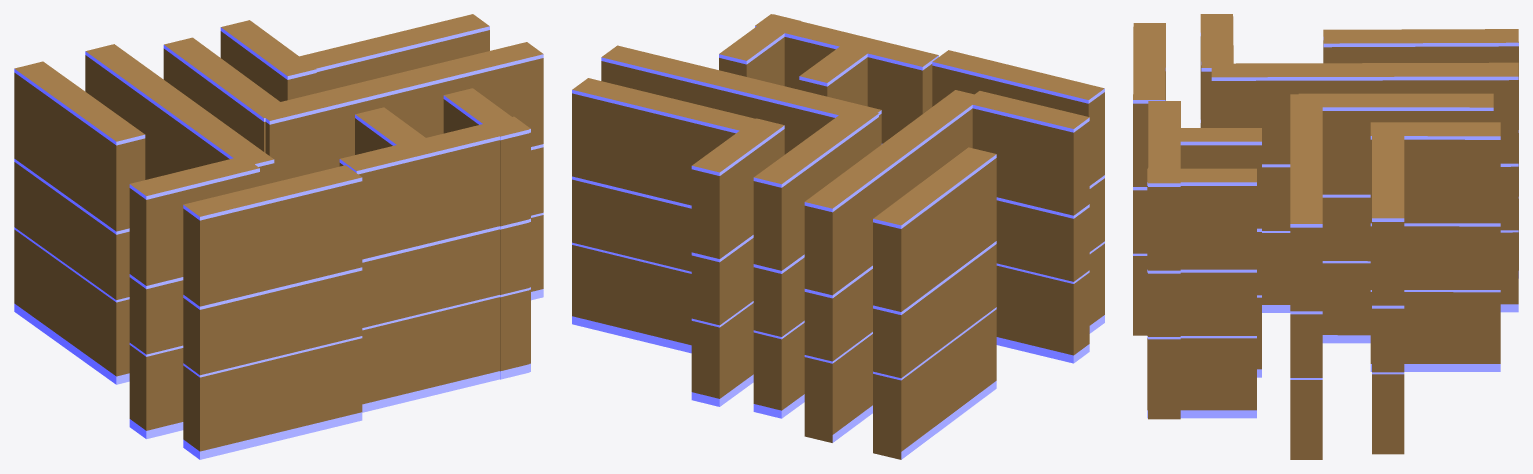
The model's file is map2.glb.
The picture shows the model from 3 angles, left to right: view 1: azimuth 30°, elevation 25°; view 2: azimuth 150°, elevation 25°; view 3: azimuth 270°, elevation 25°; orthographic projection. The views are drawn at different scales.
Parts seen in each view (by area): view 1: wall_1.009, wall_1.008, wall_1.006, wall_1_, wall_1.004, wall_1.007, wall_1.005, wall_1.001, wall_1.003, wall_1.002, wall_1.010; view 2: wall_1.001, wall_1.006, wall_1.004, wall_1.007, wall_1.002, wall_1.003, wall_1_, wall_1.009, wall_1.008, wall_1.005, wall_1.010; view 3: wall_1.002, wall_1.007, wall_1.005, wall_1.003, wall_1_, wall_1.001, wall_1.008, wall_1.006, wall_1.009, wall_1.010, wall_1.004.
Boxes of the visible parts, x1,y1,x2,y2 form: wall_1.009: (183, 165, 362, 459); wall_1.008: (339, 116, 530, 412); wall_1.006: (14, 61, 145, 384); wall_1_: (265, 42, 543, 300); wall_1.004: (129, 157, 259, 439); wall_1.007: (85, 44, 274, 185); wall_1.005: (443, 88, 529, 379); wall_1.001: (299, 14, 489, 92); wall_1.003: (163, 37, 292, 152); wall_1.002: (220, 20, 316, 101); wall_1.010: (355, 107, 439, 155); wall_1.001: (572, 78, 755, 353); wall_1.006: (873, 147, 996, 459); wall_1.004: (972, 91, 1089, 363); wall_1.007: (804, 90, 982, 442); wall_1.002: (691, 118, 784, 406); wall_1.003: (753, 106, 878, 418); wall_1_: (601, 45, 881, 154); wall_1.009: (932, 50, 1104, 333); wall_1.008: (755, 14, 938, 144); wall_1.005: (719, 14, 800, 85); wall_1.010: (799, 36, 881, 106); wall_1.002: (1370, 122, 1500, 371); wall_1.007: (1211, 62, 1518, 312); wall_1.005: (1147, 168, 1256, 418); wall_1.003: (1298, 93, 1493, 343); wall_1_: (1290, 94, 1322, 459); wall_1.001: (1372, 136, 1404, 454); wall_1.008: (1148, 101, 1180, 419); wall_1.006: (1323, 29, 1518, 278); wall_1.009: (1133, 23, 1165, 335); wall_1.010: (1152, 128, 1261, 377); wall_1.004: (1200, 14, 1233, 127).
Size of what is drawn, in the model's own units: 30.56 by 16 by 23.71.
